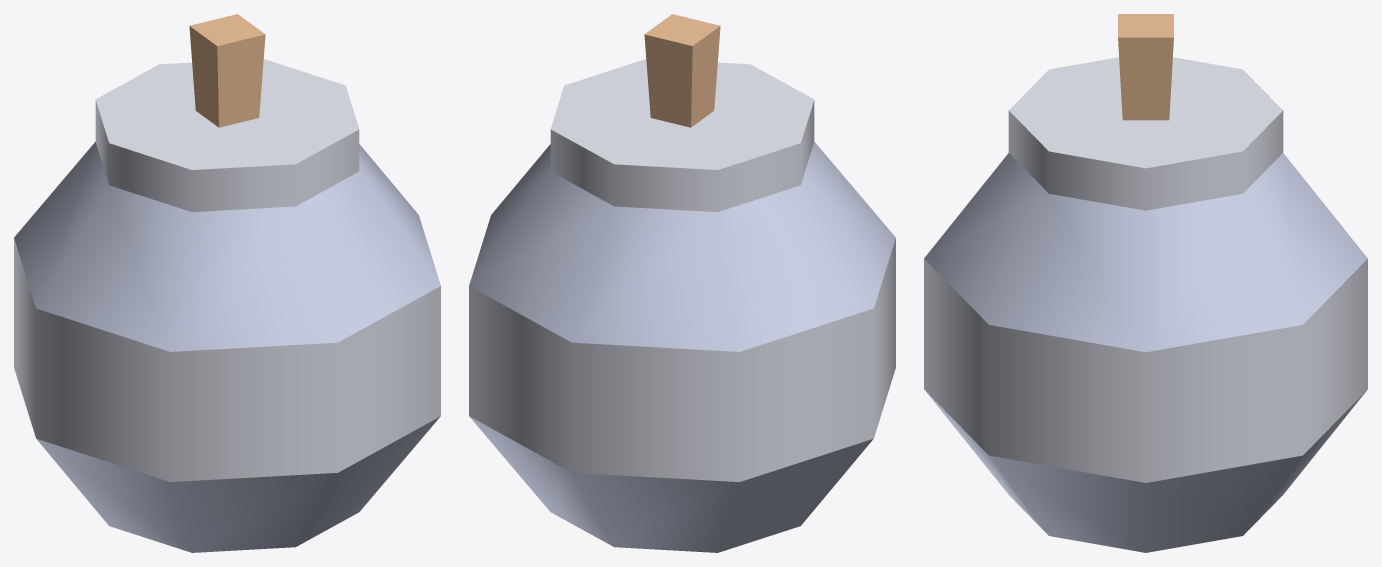
3 views of the same model, side by side, from view 1: azimuth 30°, elevation 25°; view 2: azimuth 150°, elevation 25°; view 3: azimuth 270°, elevation 25° (orthographic).
Visible parts, largest first — view 1: bomb; view 2: bomb; view 3: bomb.
Part boxes in pixels (x1,y1,x2,y2): bomb: (14,14,440,552); bomb: (469,14,895,552); bomb: (924,14,1367,552).
Bounding box in the file's own units: 0.3424 × 0.4336 × 0.3424.
